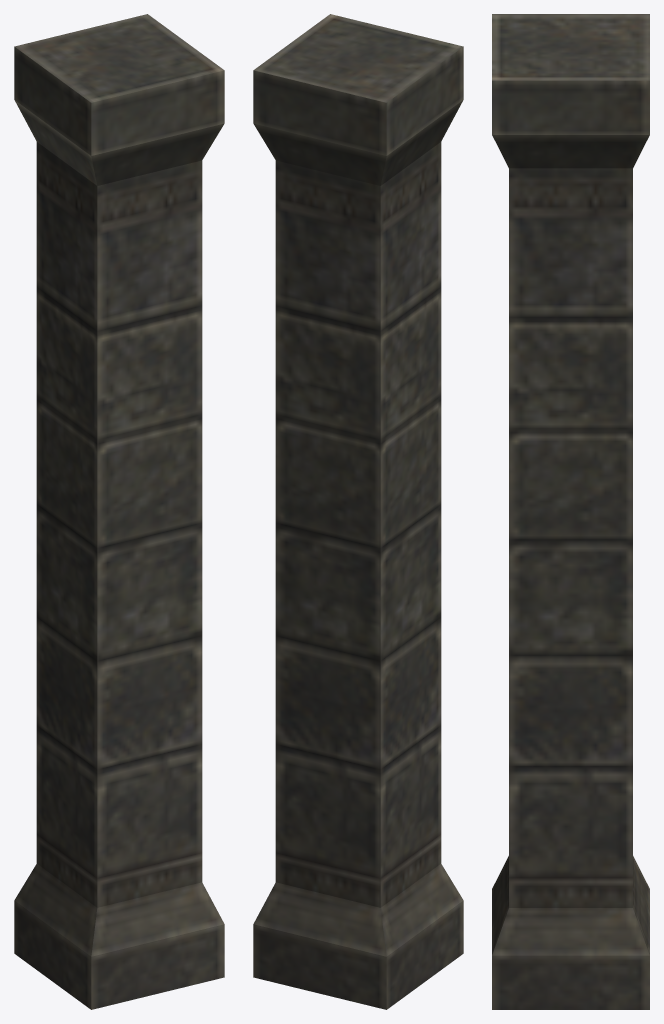
The model's file is KQZD_zhuzi_1.FBX.
The picture shows the model from 3 angles, left to right: view 1: azimuth 30°, elevation 25°; view 2: azimuth 150°, elevation 25°; view 3: azimuth 270°, elevation 25°; orthographic projection. The views are drawn at different scales.
Parts seen in each view (by area): view 1: KQZD_zhuzi_1; view 2: KQZD_zhuzi_1; view 3: KQZD_zhuzi_1.
Boxes of the visible parts, x1=… form: KQZD_zhuzi_1: x1=14, y1=14, x2=224, y2=1009; KQZD_zhuzi_1: x1=253, y1=14, x2=463, y2=1009; KQZD_zhuzi_1: x1=492, y1=14, x2=649, y2=1009.
Size of the model in its own units: 59.99 by 59.99 by 390.
